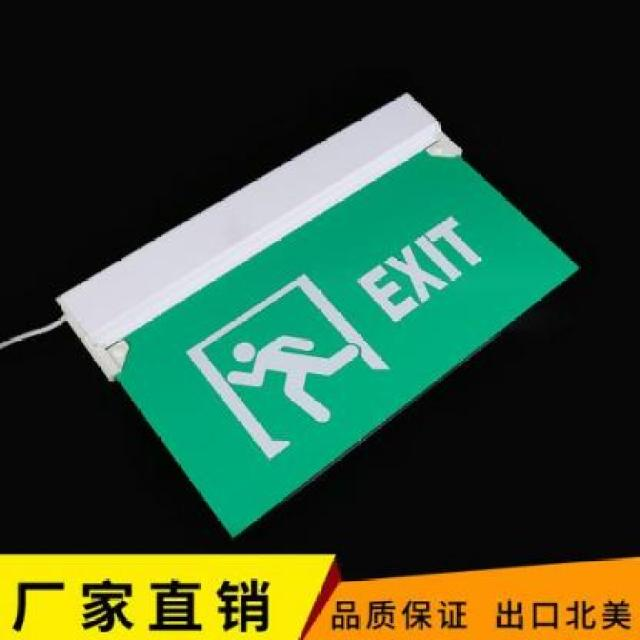exit_sign: (98, 142, 584, 542)
